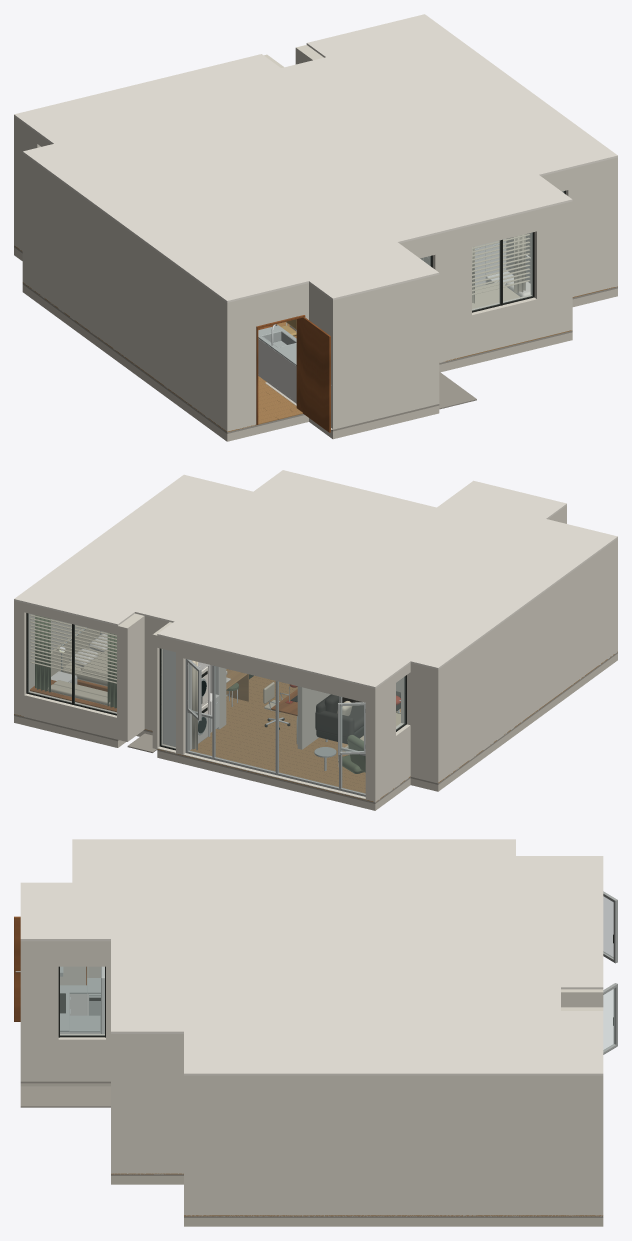
File: home-model-inset-800.glb
3 renders of one model, top to bottom at view 1: azimuth 30°, elevation 25°; view 2: azimuth 150°, elevation 25°; view 3: azimuth 270°, elevation 25°, orthographic. The views are drawn at different scales.
Visible parts, largest first — view 1: 全屋顶面, CAD墙体_36, CAD墙体_86, CAD墙体_01, CAD墙体_02, 完整户型基座, CAD墙体_04, CAD墙体_35, CAD墙体_05, CAD墙体_83, CAD墙体_20, 入户门 (+27 smaller); view 2: 全屋顶面, Floor_shared_温润橡木地板, CAD墙体_36, CAD墙体_86, 阳台F2中央固定玻璃, 阳台F1中央固定玻璃, CAD墙体_02, 完整户型基座, CAD墙体_01, 主卧窗玻璃.001, 主卧窗玻璃, CAD墙体_05 (+34 smaller); view 3: 全屋顶面, CAD墙体_43, CAD墙体_01, CAD墙体_04, CAD墙体_86, CAD墙体_26, 完整户型基座, CAD墙体_83, CAD墙体_34, 厨房窗玻璃, CAD墙体_40, CAD墙体_85 (+23 smaller).
Part boxes in pixels (box(x1,y1,x2,y2)): 全屋顶面: box(14, 14, 617, 302); CAD墙体_36: box(22, 190, 256, 373); CAD墙体_86: box(14, 45, 617, 313); CAD墙体_01: box(289, 262, 617, 428); CAD墙体_02: box(14, 221, 256, 430); 完整户型基座: box(14, 247, 617, 441); CAD墙体_04: box(331, 248, 617, 404); CAD墙体_35: box(308, 311, 439, 371); CAD墙体_05: box(14, 207, 256, 407); CAD墙体_83: box(22, 61, 617, 321); CAD墙体_20: box(14, 193, 256, 390); 入户门: box(303, 317, 330, 432); 全屋顶面: box(14, 470, 617, 688); Floor_shared_温润橡木地板: box(14, 651, 617, 801); CAD墙体_36: box(401, 570, 617, 731); CAD墙体_86: box(14, 505, 617, 697); 阳台F2中央固定玻璃: box(215, 666, 275, 771); 阳台F1中央固定玻璃: box(278, 682, 338, 787); CAD墙体_02: box(365, 630, 617, 801); 完整户型基座: box(14, 653, 617, 810); CAD墙体_01: box(14, 691, 228, 747); 主卧窗玻璃.001: box(28, 613, 71, 702); 主卧窗玻璃: box(74, 625, 116, 713); CAD墙体_05: box(365, 618, 617, 780); 全屋顶面: box(20, 839, 603, 1075); CAD墙体_43: box(184, 1115, 603, 1152); CAD墙体_01: box(20, 1054, 603, 1214); CAD墙体_04: box(20, 1034, 603, 1189); CAD墙体_86: box(20, 941, 603, 1086); CAD墙体_26: box(184, 1159, 603, 1171); 完整户型基座: box(20, 1083, 603, 1226); CAD墙体_83: box(20, 956, 603, 1095); CAD墙体_34: box(184, 1152, 603, 1159); 厨房窗玻璃: box(60, 967, 104, 1035); CAD墙体_40: box(111, 1073, 183, 1110); CAD墙体_85: box(20, 952, 603, 1090).
Bounding box in the file's own units: 9.73 × 2.96 × 10.6.
33 materials, 3 textured.
